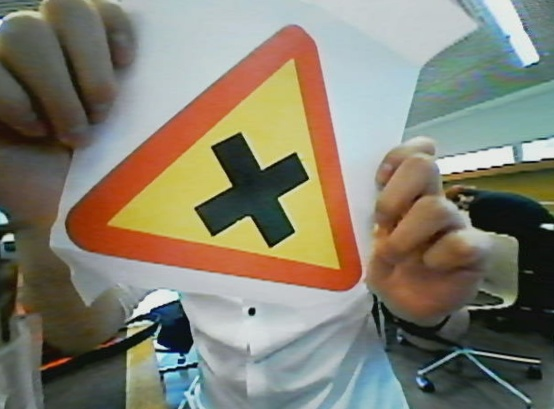junction: (63, 19, 364, 299)
